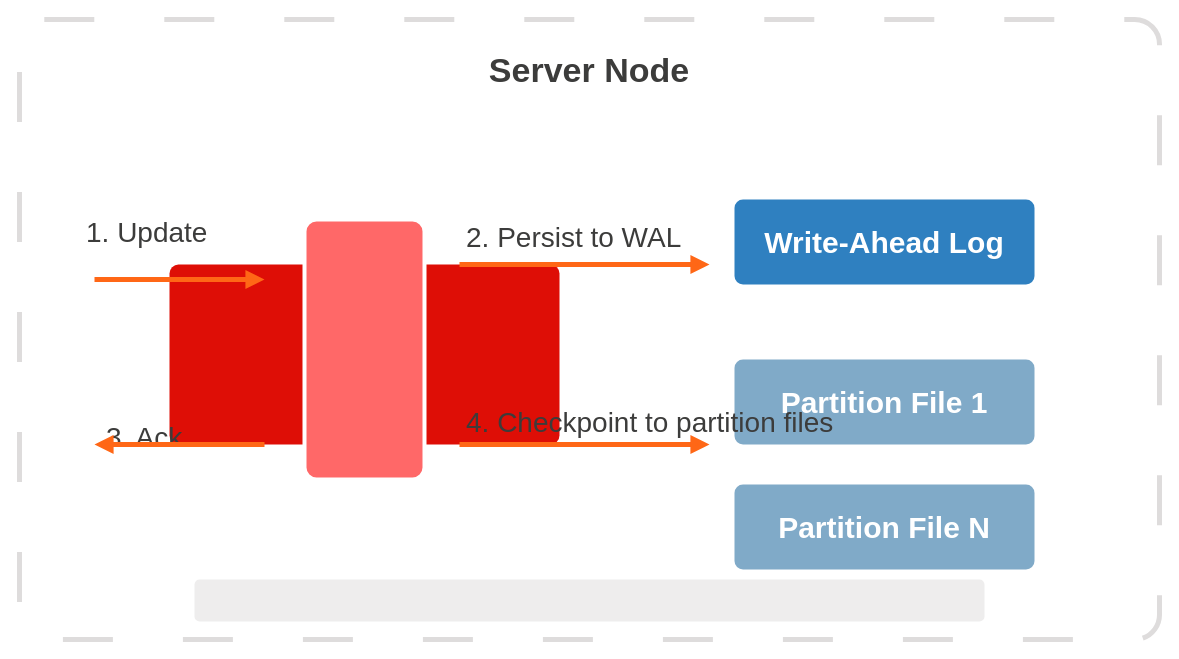
The diagram is 1179 pixels wide and 659 high, and some of its shapes have lost their labels. The shapes that lost their labels are listed below. From the top down, each one's centre as x and y in pixels, then its label:
point (364, 349): data regions checkpoint buffers
point (589, 600): Persistence nodes need memory capacity and disk/page-cache capacity.
